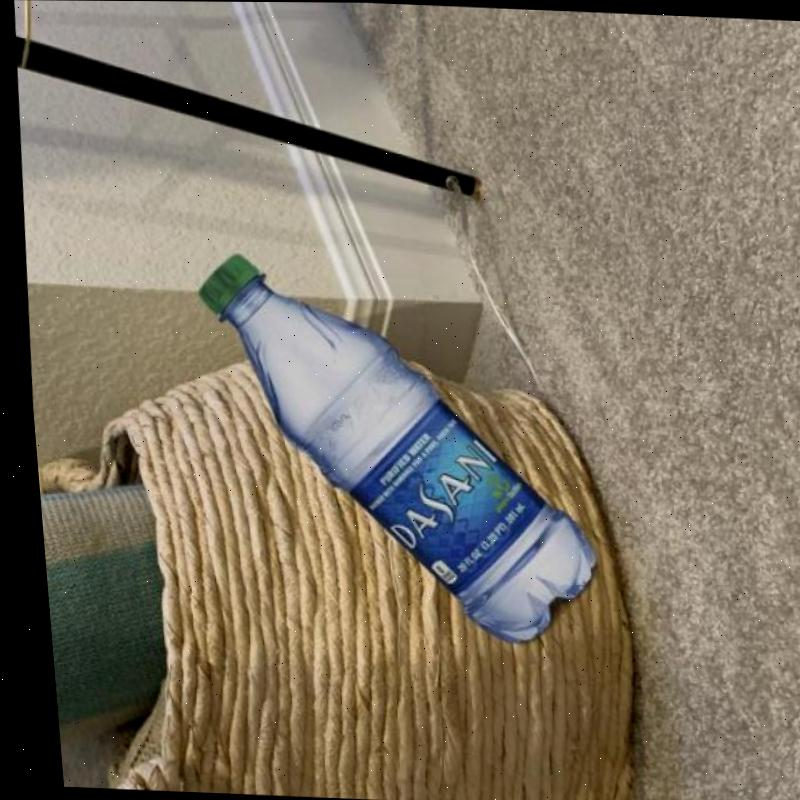botella: (176, 249, 600, 650)
